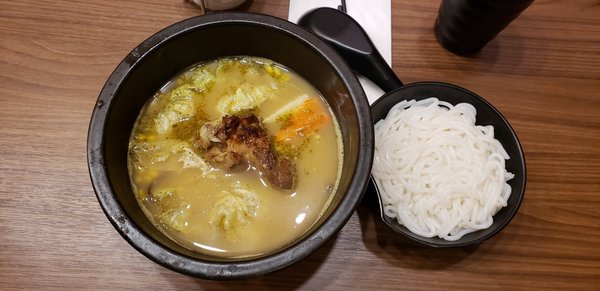sushi: (71, 11, 374, 279), (366, 89, 526, 249)
